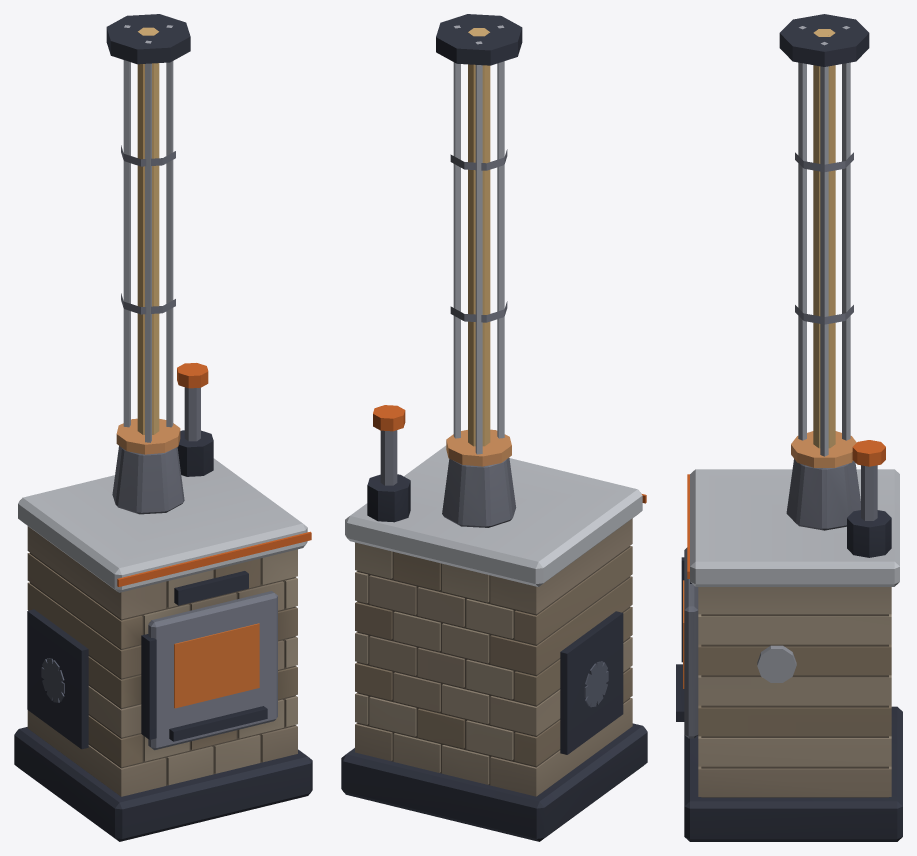
The model's file is furnace.glb.
The picture shows the model from 3 angles, left to right: view 1: azimuth 30°, elevation 25°; view 2: azimuth 150°, elevation 25°; view 3: azimuth 270°, elevation 25°; orthographic projection. The views are drawn at different scales.
Parts seen in each view (by area): view 1: furnace, tall_cage, fx_core_tall, fx_window, piston, fx_ring, fan; view 2: furnace, tall_cage, fx_core_tall, piston, fx_ring, fan; view 3: furnace, tall_cage, fx_core_tall, piston, fx_ring.
Boxes of the visible parts, left/top/right/bottom form: furnace: left=14, top=430, right=312, bottom=841; tall_cage: left=106, top=14, right=190, bottom=442; fx_core_tall: left=137, top=27, right=159, bottom=434; fx_window: left=174, top=623, right=259, bottom=708; piston: left=177, top=363, right=208, bottom=441; fx_ring: left=116, top=418, right=180, bottom=454; fan: left=41, top=658, right=64, bottom=702; furnace: left=341, top=445, right=647, bottom=841; tall_cage: left=436, top=14, right=522, bottom=454; fx_core_tall: left=468, top=28, right=490, bottom=446; piston: left=373, top=405, right=405, bottom=485; fx_ring: left=446, top=429, right=511, bottom=466; fan: left=584, top=661, right=608, bottom=707; furnace: left=676, top=459, right=902, bottom=841; tall_cage: left=779, top=14, right=869, bottom=456; fx_core_tall: left=813, top=29, right=835, bottom=448; piston: left=852, top=440, right=885, bottom=520; fx_ring: left=791, top=431, right=856, bottom=467.
Bounding box in the file's own units: 0.8675 × 3 × 0.81.
